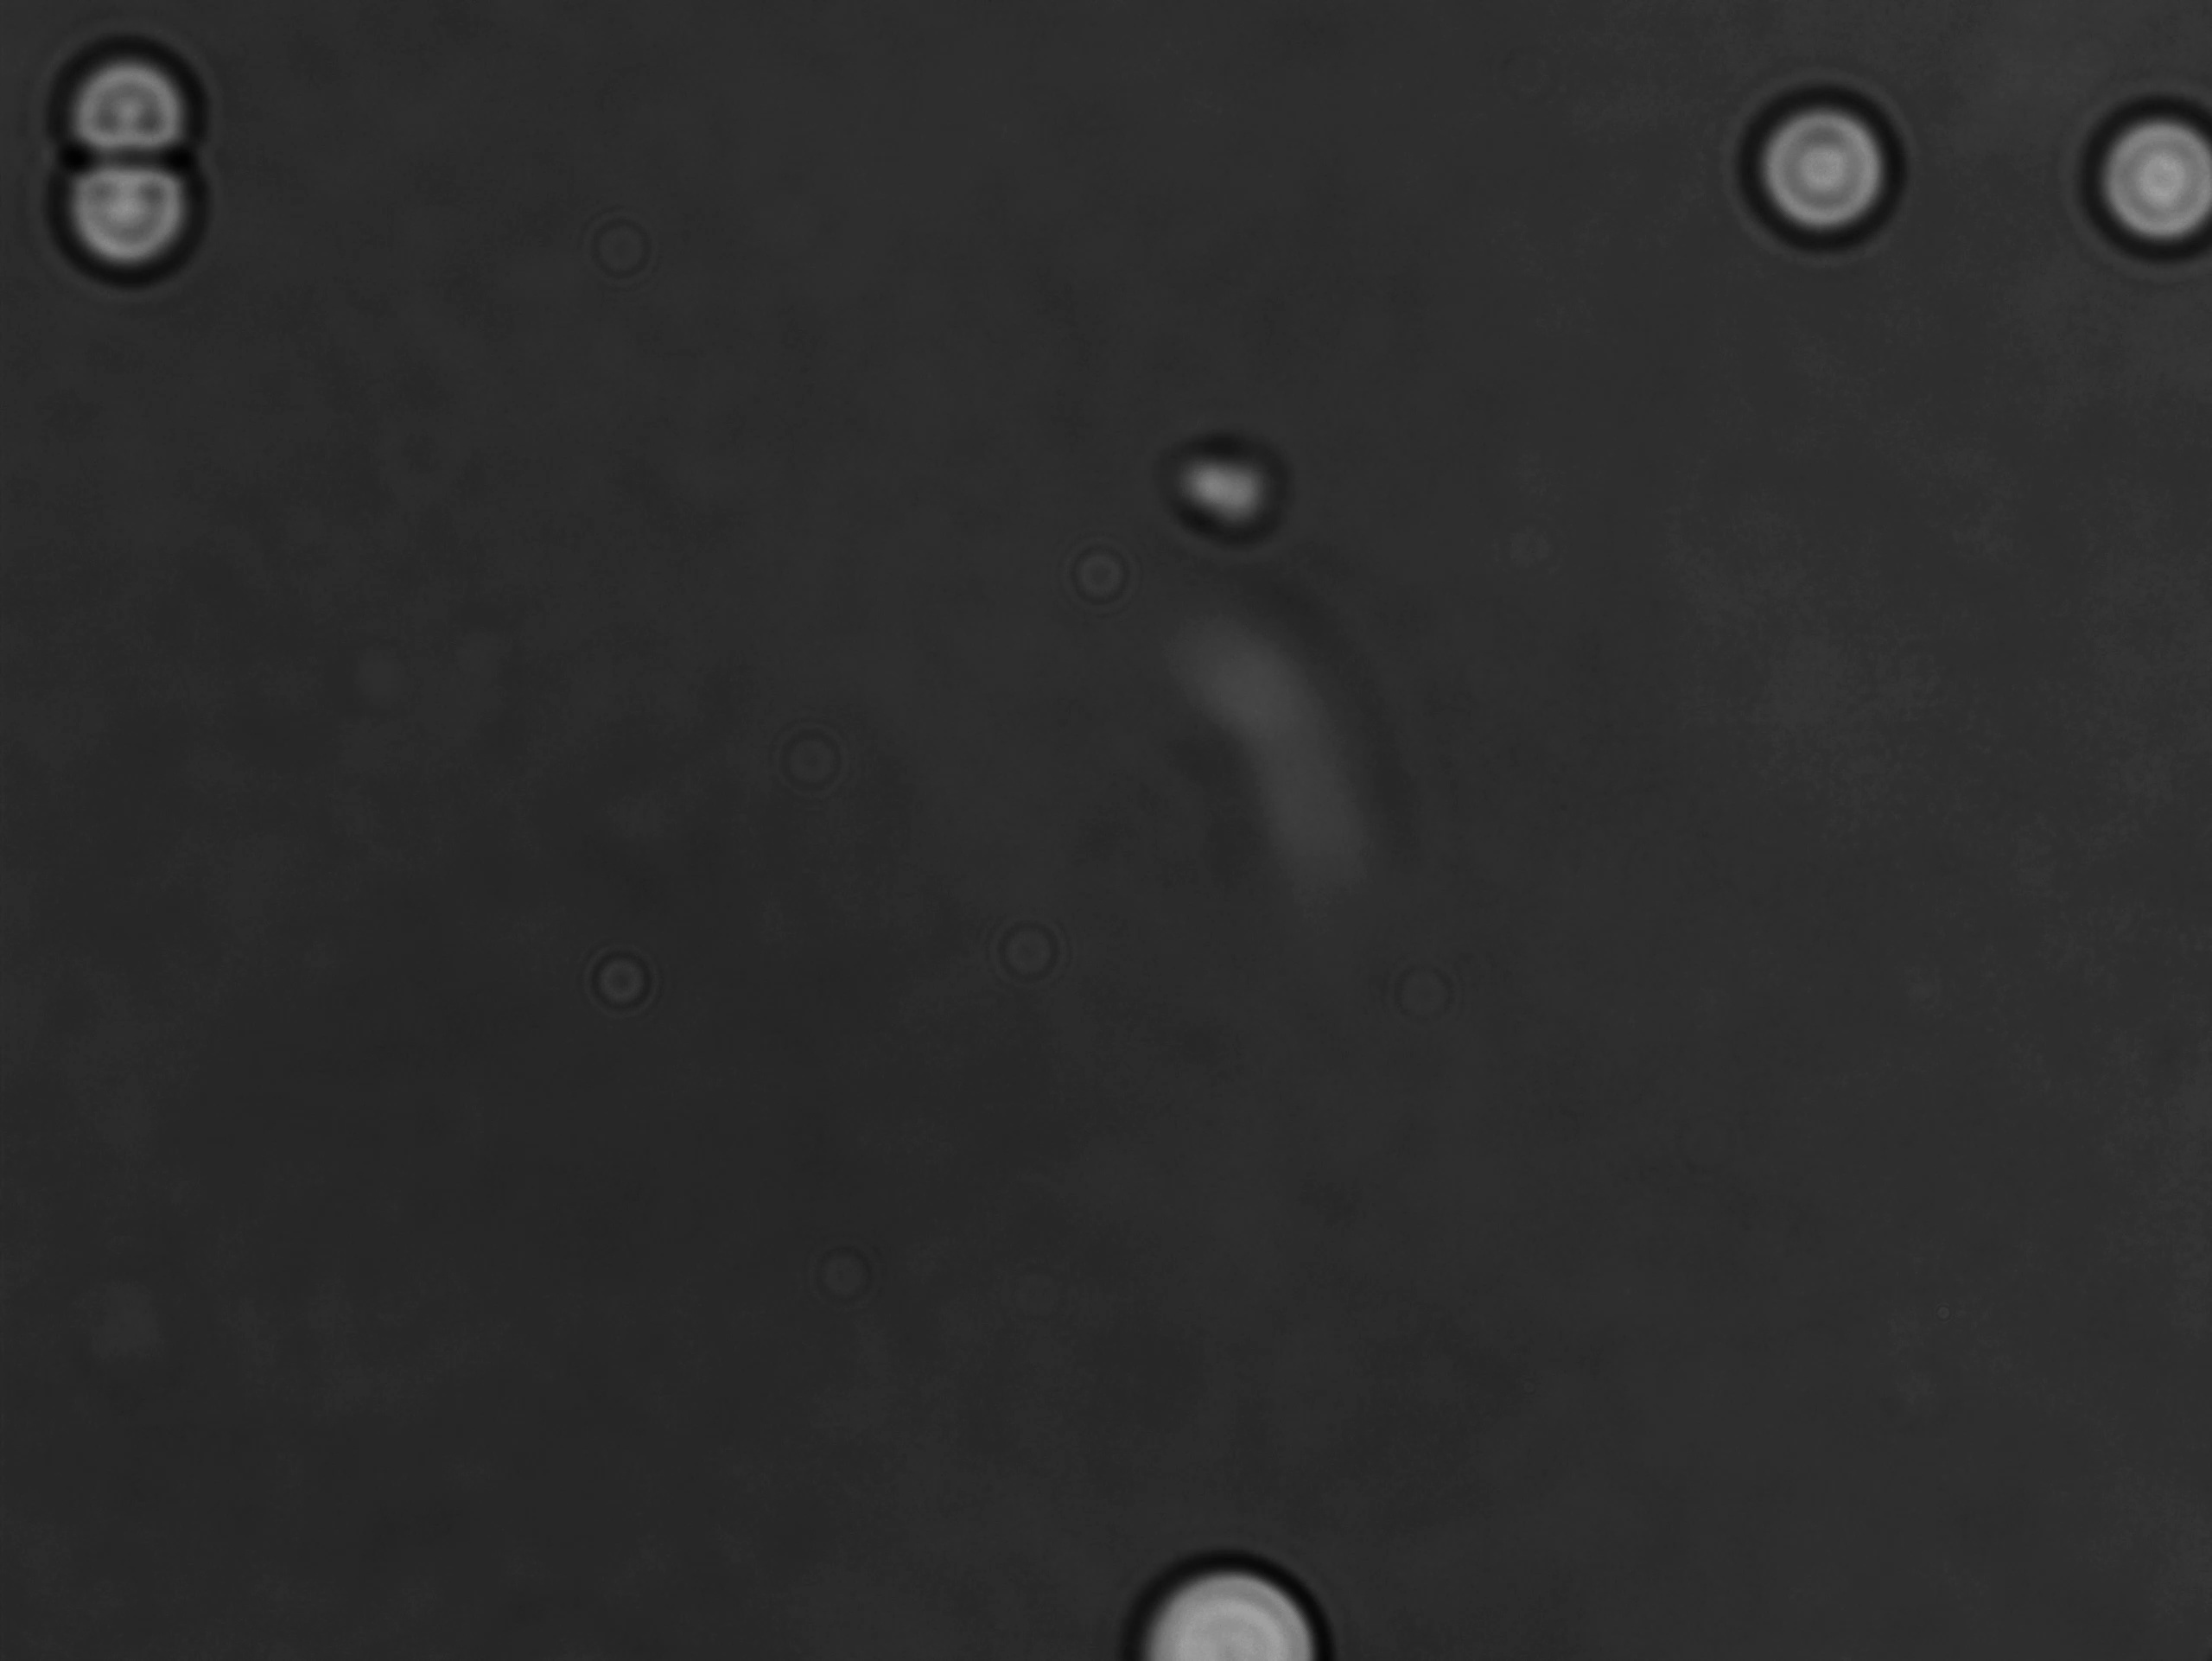depth:40: (1720, 68, 1929, 270), (37, 127, 216, 293), (2058, 87, 2212, 276), (42, 21, 215, 181)
